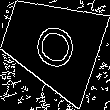O_W: (24, 14, 79, 73)
